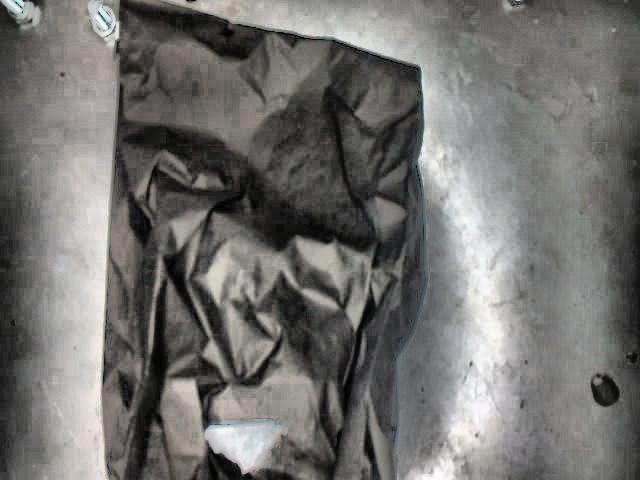Paper: (100, 0, 427, 478)
